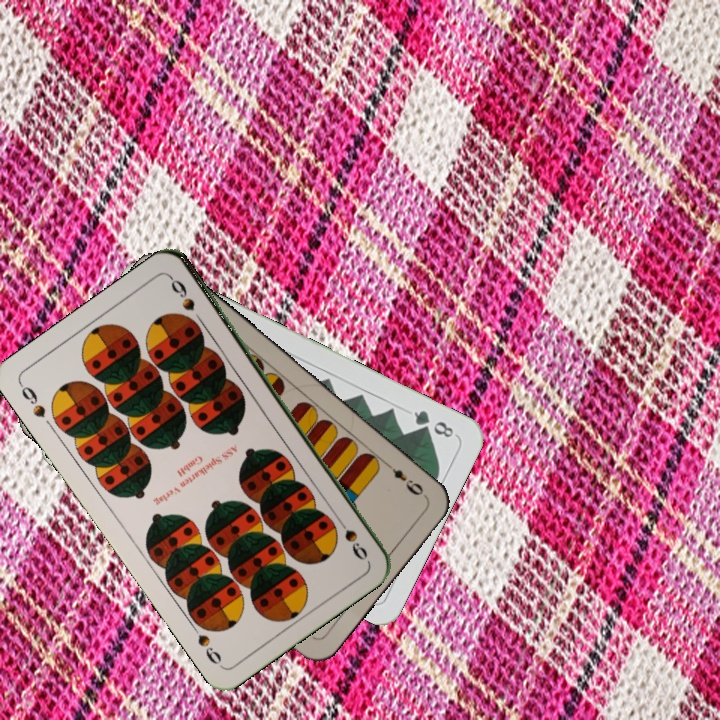E9: (380, 457, 429, 500)
G8: (409, 406, 459, 441)
S9: (331, 511, 371, 563), (16, 379, 49, 421)
